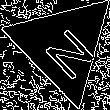N_NW: (31, 13, 95, 78)
